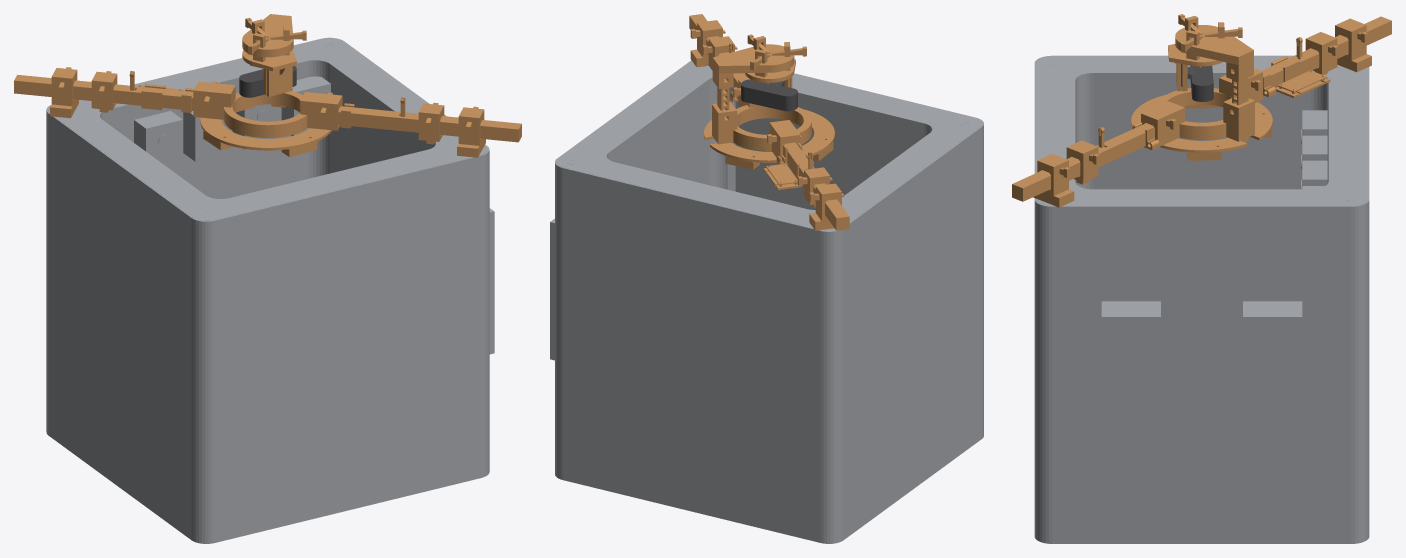
File: mount-u1.glb
3 renders of one model, left to right at view 1: azimuth 30°, elevation 25°; view 2: azimuth 150°, elevation 25°; view 3: azimuth 270°, elevation 25°, orthographic. The views are drawn at different scales.
Parts seen in each view (by area): view 1: printer, mount, c920; view 2: printer, mount, c920; view 3: printer, mount, c920.
Part boxes in pixels (<box>): printer: <box>46,37,494,543</box>; mount: <box>14,14,521,157</box>; c920: <box>239,66,296,97</box>; printer: <box>550,60,983,543</box>; mount: <box>689,14,849,230</box>; c920: <box>741,79,797,111</box>; printer: <box>1034,55,1369,543</box>; mount: <box>1012,14,1391,207</box>; c920: <box>1181,63,1213,101</box>.
Size of the model in its own units: 0.5633 by 0.6575 by 0.5105.
